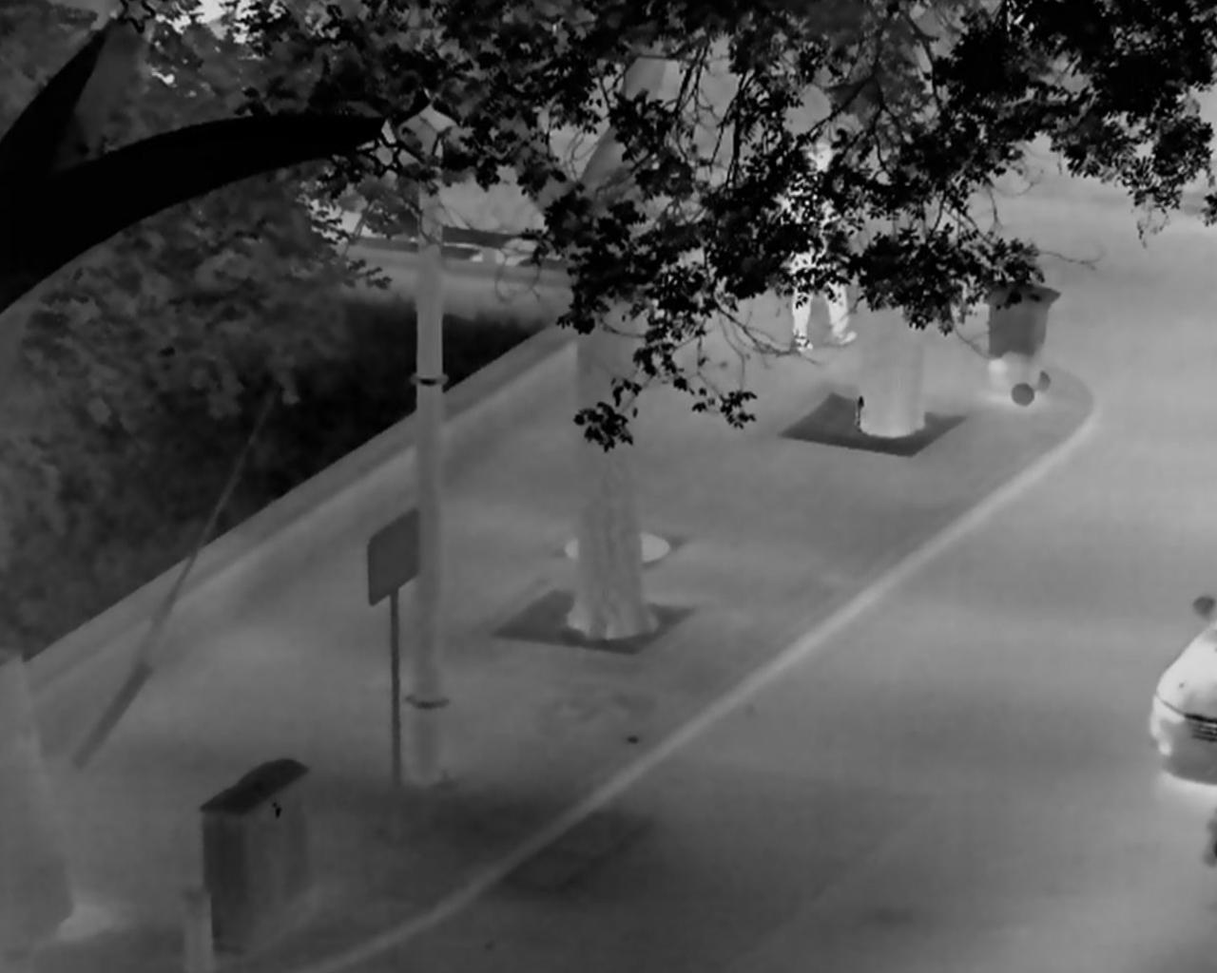person: (782, 143, 861, 353)
